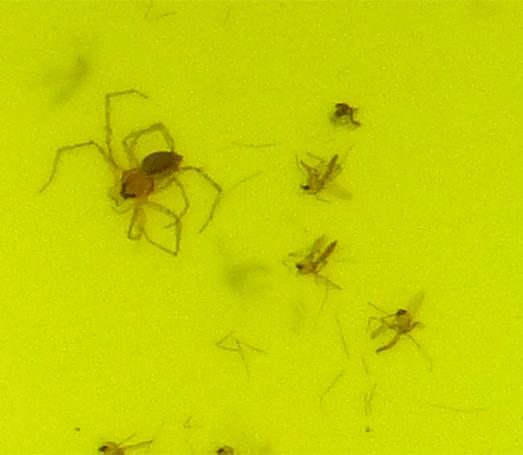Araneae: (37, 88, 222, 256)
Nematocera: (369, 306, 423, 355), (293, 235, 339, 289), (298, 153, 343, 198), (326, 100, 363, 130)
